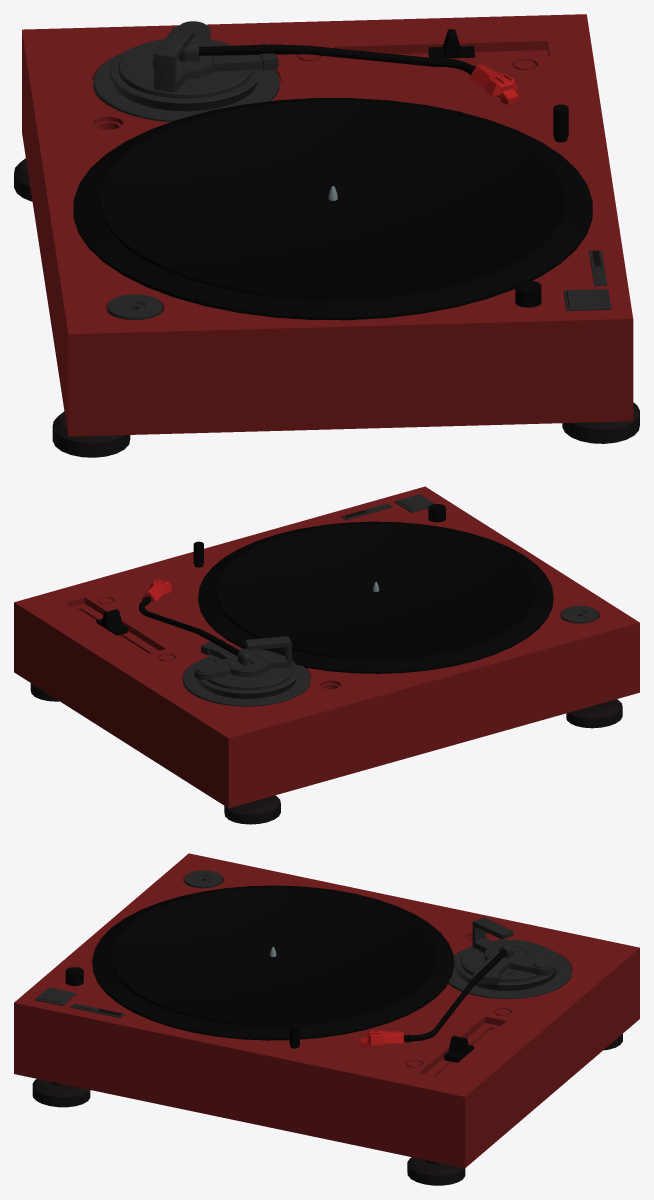
Rendered from vinyl-player.glb.
3 renders of one model, top to bottom at view 1: azimuth 30°, elevation 25°; view 2: azimuth 150°, elevation 25°; view 3: azimuth 270°, elevation 25°, orthographic. The views are drawn at different scales.
Visible parts, largest first — view 1: pCylinder3_dit3_0, pCube20_ditals_0; view 2: pCylinder3_dit3_0, pCube20_ditals_0; view 3: pCylinder3_dit3_0, pCube20_ditals_0.
Part boxes in pixels (x1,y1,x2,y2): pCylinder3_dit3_0: (14, 14, 639, 457); pCube20_ditals_0: (179, 42, 519, 104); pCylinder3_dit3_0: (14, 486, 639, 824); pCube20_ditals_0: (139, 579, 251, 665); pCylinder3_dit3_0: (14, 853, 639, 1185); pCube20_ditals_0: (359, 944, 512, 1047).
Size of the model in its own units: 1.28 by 0.3184 by 1.39.
